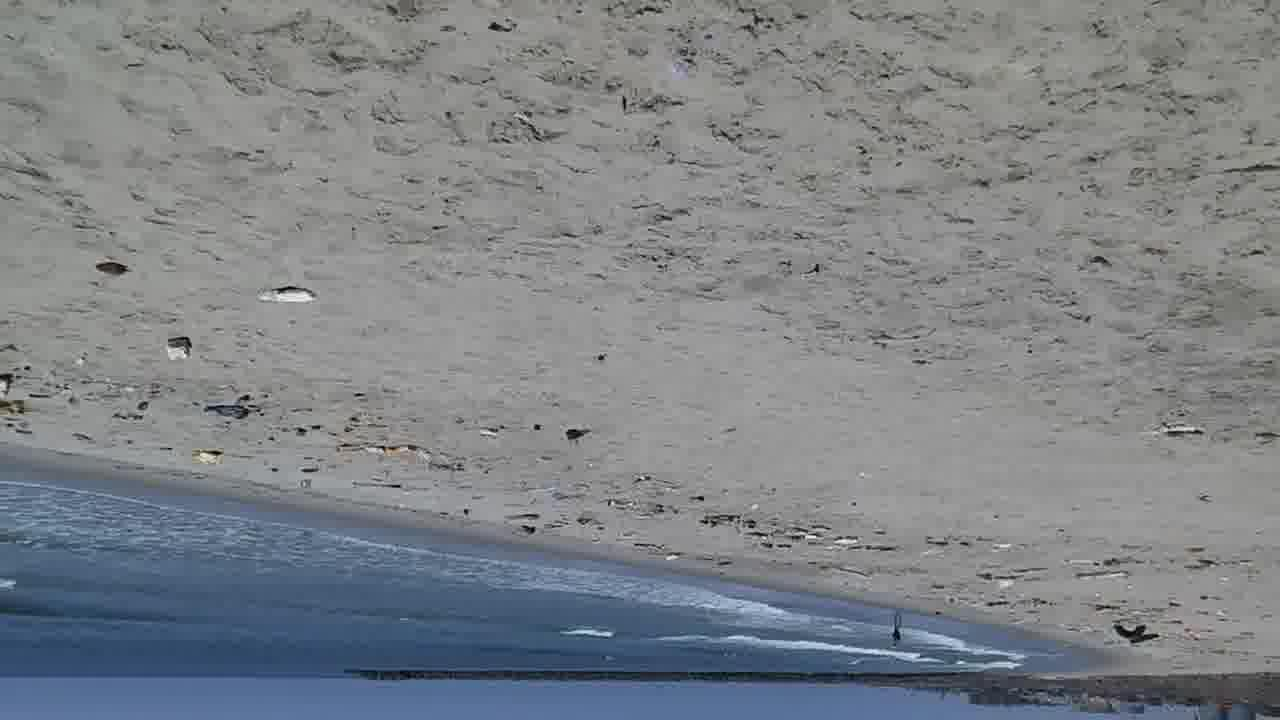obj: (335, 438, 471, 474), (1064, 556, 1134, 588), (1158, 408, 1210, 446), (199, 394, 268, 422), (795, 527, 863, 545), (259, 283, 317, 304), (1112, 620, 1156, 646), (560, 426, 596, 445), (164, 336, 192, 360), (194, 450, 224, 466), (992, 580, 1024, 592), (476, 426, 501, 441)
sand/background: (1, 477, 1279, 719)
